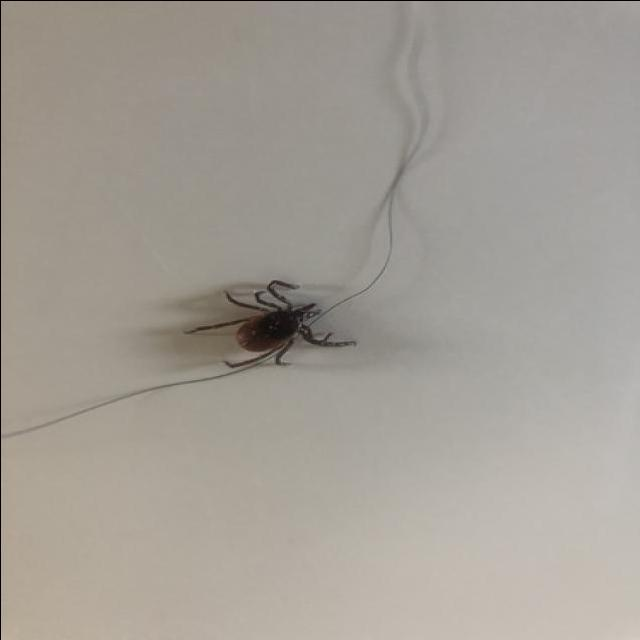Ixodes Ricinus-F: (183, 278, 355, 375)
